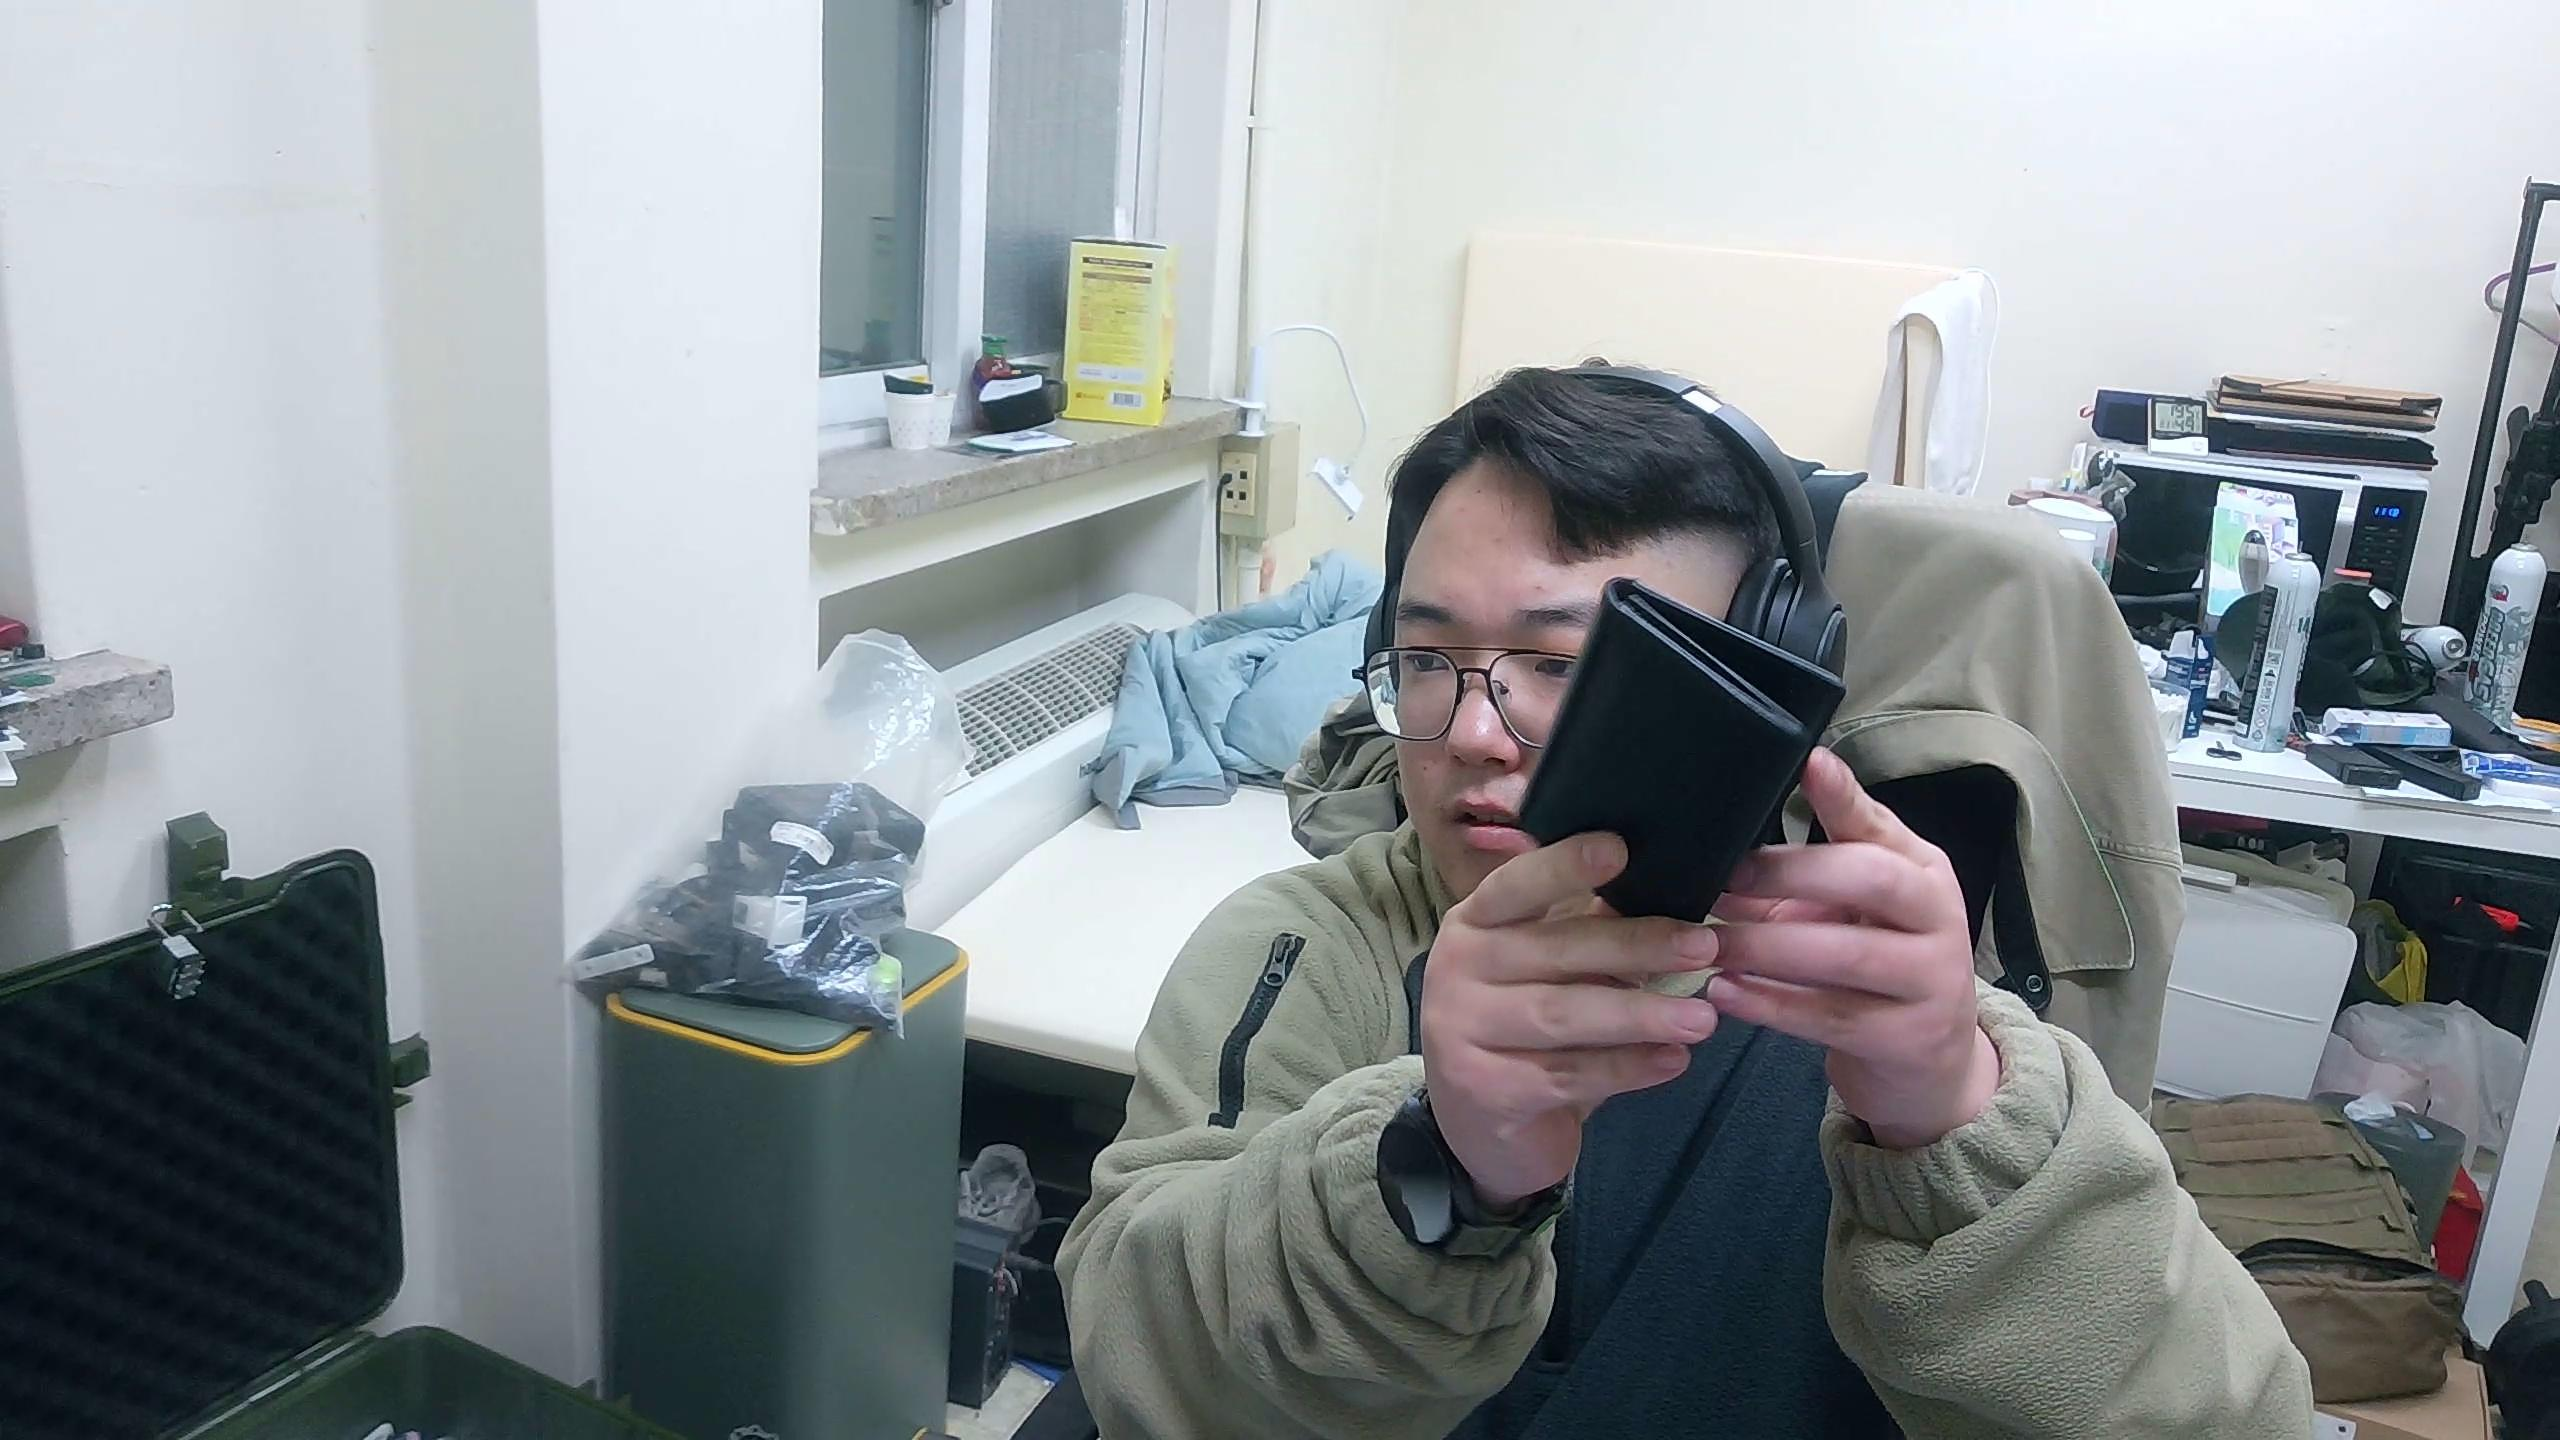earphone: (1517, 573, 1851, 928)
